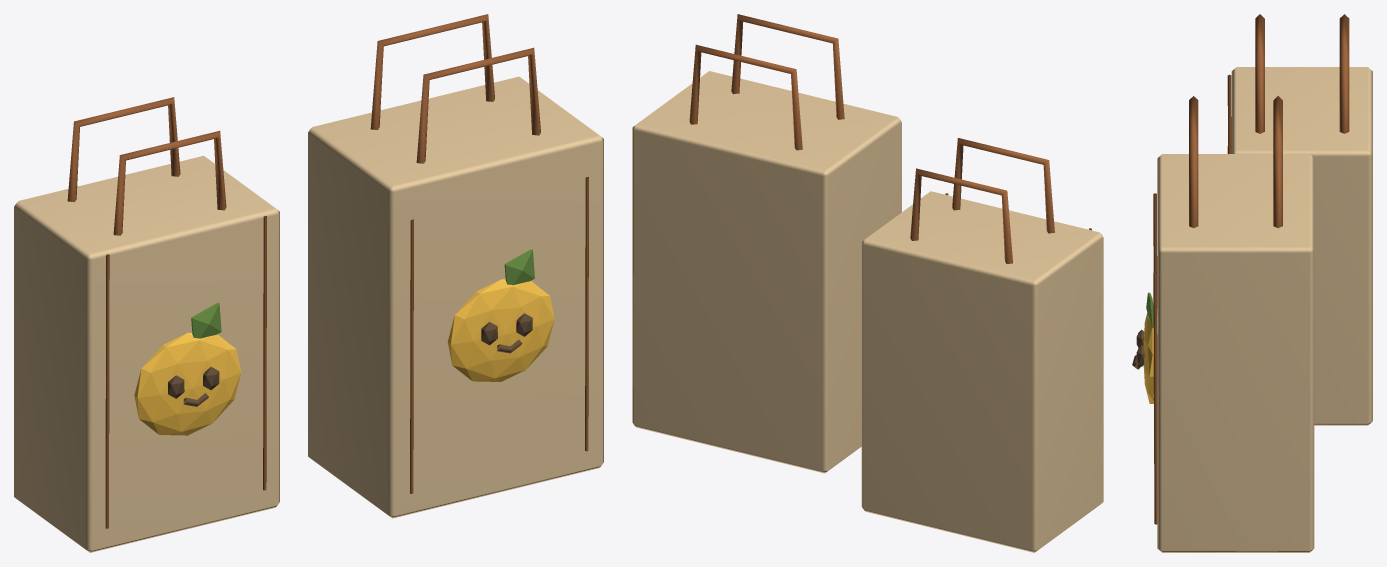
The model's file is takeout_bags.fbx.
3 views of the same model, side by side, from view 1: azimuth 30°, elevation 25°; view 2: azimuth 150°, elevation 25°; view 3: azimuth 270°, elevation 25° (orthographic). The views are drawn at different scales.
Parts seen in each view (by area): view 1: takeout_bags; view 2: takeout_bags; view 3: takeout_bags.
Boxes of the visible parts, x1=… form: takeout_bags: x1=14, y1=14, x2=603, y2=552; takeout_bags: x1=632, y1=14, x2=1103, y2=552; takeout_bags: x1=1132, y1=14, x2=1372, y2=552.
Size of the model in its own units: 0.4205 by 0.3529 by 0.1995.
